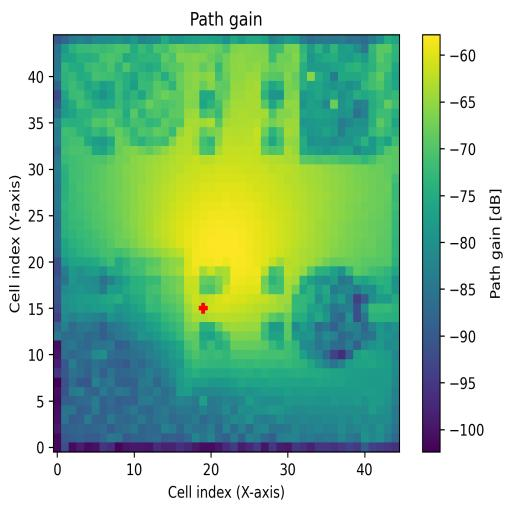Concrete: (298, 44, 384, 156)
Glass: (114, 50, 184, 144)
Metal: (292, 265, 376, 369)
Wood: (116, 259, 185, 368)
